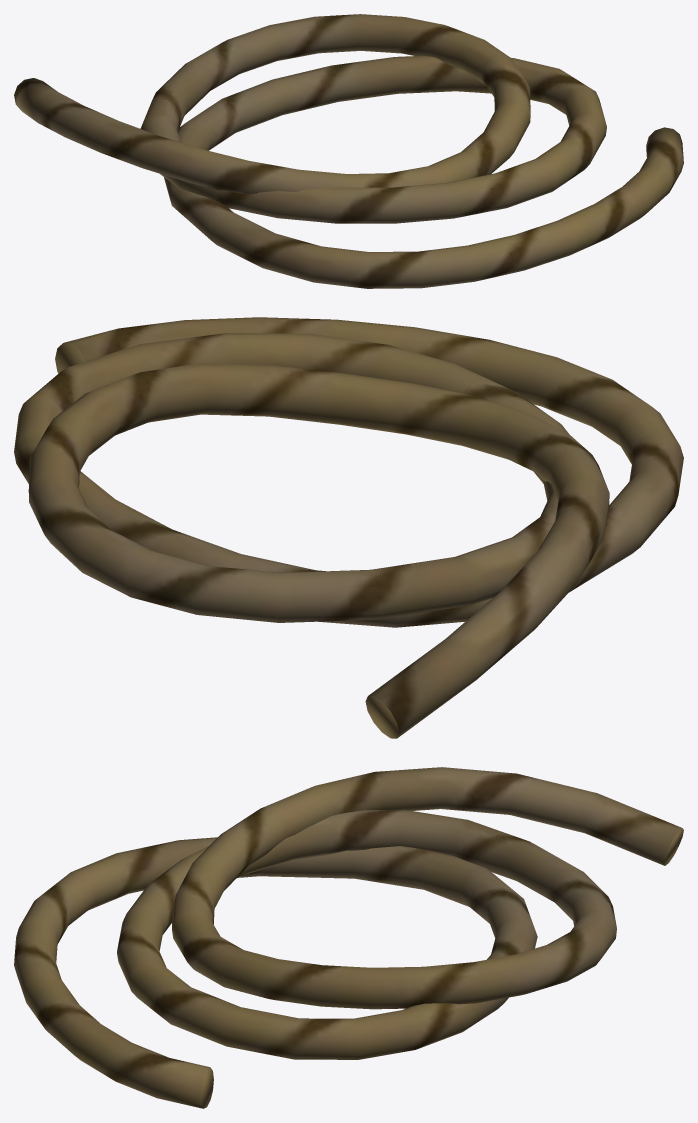
File: rope_2.glb
3 views of the same model, one above another, from view 1: azimuth 30°, elevation 25°; view 2: azimuth 150°, elevation 25°; view 3: azimuth 270°, elevation 25° (orthographic). The views are drawn at different scales.
Visible parts, largest first — view 1: Rope_2; view 2: Rope_2; view 3: Rope_2.
Part boxes in pixels (box(x1,y1,x2,y2)): Rope_2: box(14, 14, 683, 288); Rope_2: box(14, 317, 683, 738); Rope_2: box(14, 767, 683, 1108).
Bounding box in the file's own units: 0.8079 × 0.1236 × 0.845.
1 material, 1 textured.
